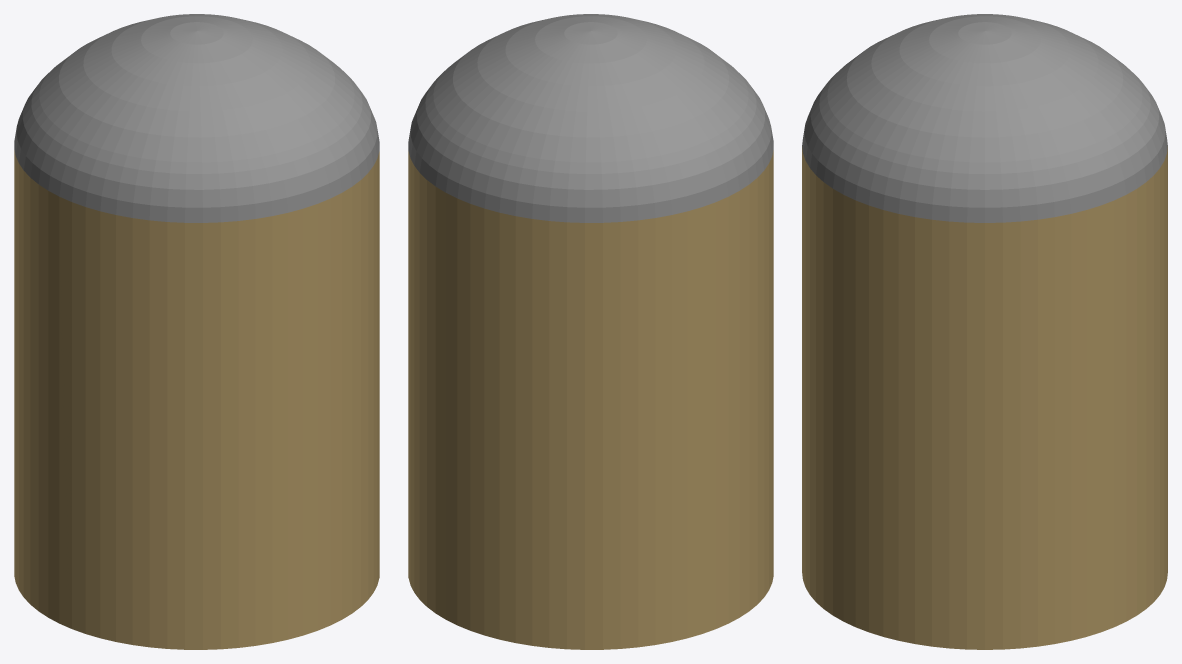
The model's file is silo1.fbx.
3 renders of one model, left to right at view 1: azimuth 30°, elevation 25°; view 2: azimuth 150°, elevation 25°; view 3: azimuth 270°, elevation 25°, orthographic.
Visible parts, largest first — view 1: Silo 1; view 2: Silo 1; view 3: Silo 1.
Boxes of the visible parts, x1,y1,x2,y2 form: Silo 1: (14, 14, 379, 649); Silo 1: (408, 14, 773, 649); Silo 1: (802, 14, 1167, 649).
Bounding box in the file's own units: 200 × 327 × 200.
